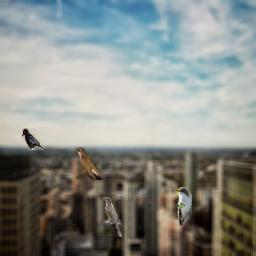Crow: (22, 128, 44, 150)
Cuckoo: (75, 147, 103, 180), (103, 197, 122, 237), (175, 187, 192, 227)
